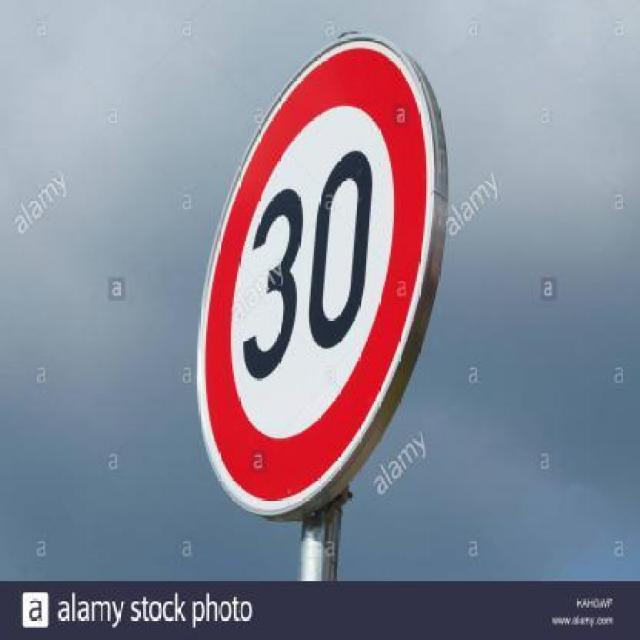Ograniczenie predkosci do 30: (197, 48, 426, 510)
